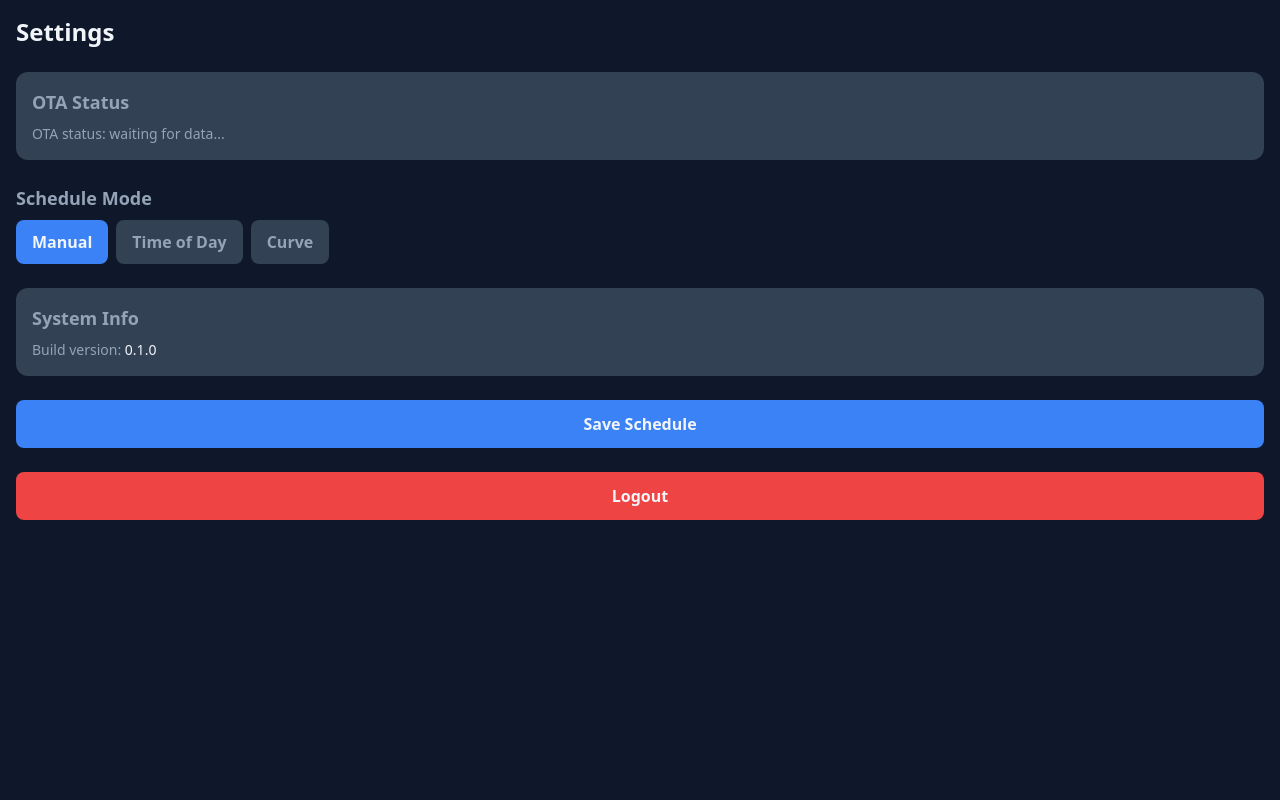
SettingsScreen › save button shows error message on non-200 response
Click the button with test id "save-btn" at (640, 424), box [16,400,1264,448]
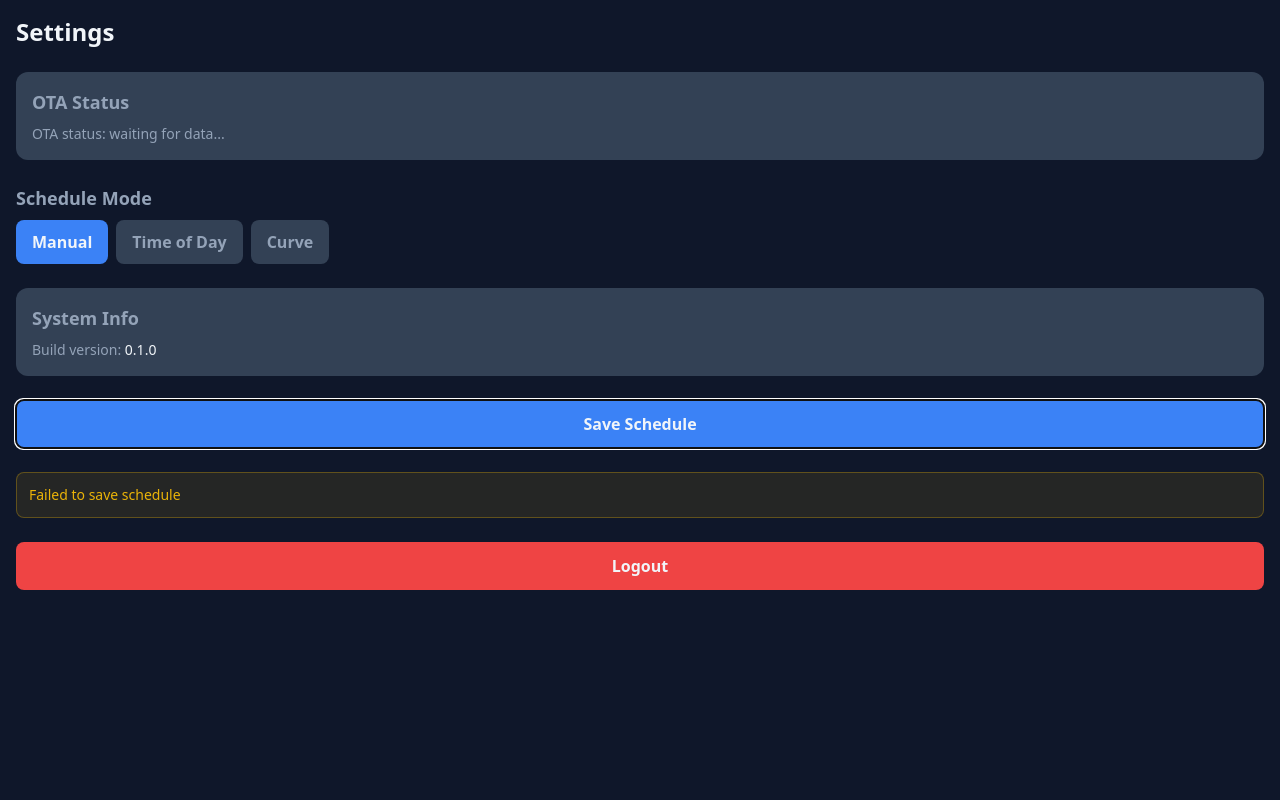
Expected: the text "Failed to save schedule" is shown, [16,472,1264,518]
